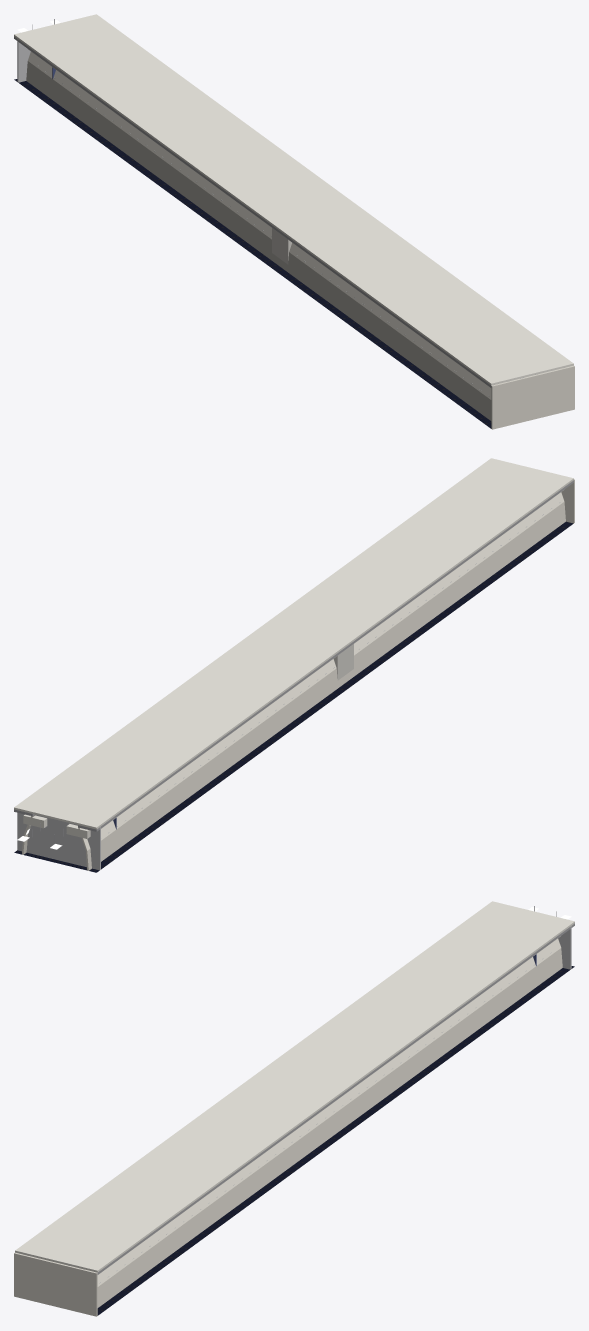
Rendered from cabin.glb.
3 views of the same model, one above another, from view 1: azimuth 30°, elevation 25°; view 2: azimuth 150°, elevation 25°; view 3: azimuth 330°, elevation 25° (orthographic).
Parts seen in each view (by area): view 1: ceiling, wall, aisle, trim; view 2: ceiling, wall, aisle, galley, trim, bin; view 3: ceiling, wall, aisle, trim.
Boxes of the visible parts, bbox=[...] form: ceiling: bbox=[14, 14, 573, 385]; wall: bbox=[26, 51, 574, 429]; aisle: bbox=[14, 79, 491, 428]; trim: bbox=[14, 36, 491, 387]; ceiling: bbox=[14, 458, 573, 829]; wall: bbox=[22, 479, 574, 870]; aisle: bbox=[14, 521, 573, 872]; galley: bbox=[17, 812, 100, 870]; trim: bbox=[14, 480, 573, 831]; bin: bbox=[23, 490, 563, 838]; ceiling: bbox=[15, 901, 574, 1272]; wall: bbox=[14, 938, 562, 1316]; aisle: bbox=[97, 966, 574, 1315]; trim: bbox=[97, 923, 574, 1274].
Bounding box in the file's own units: 4.4 × 2.3 × 45.78.
Materials: 18 (1 with a texture image).
